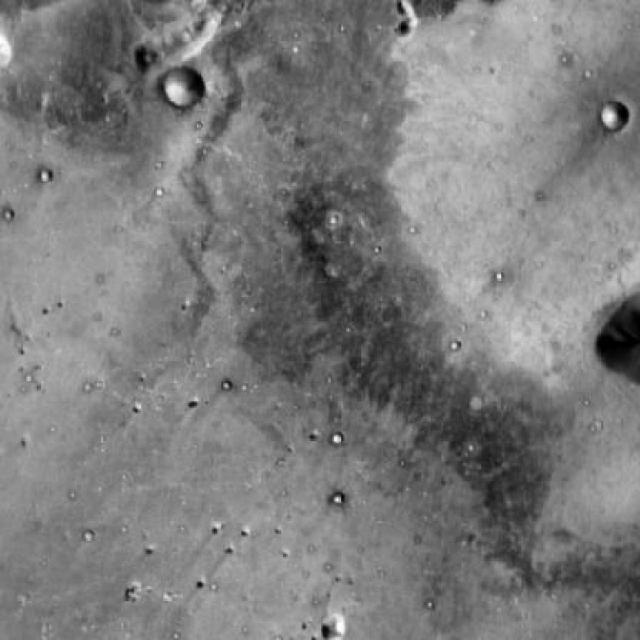crater: (165, 72, 203, 110), (601, 102, 627, 128)
